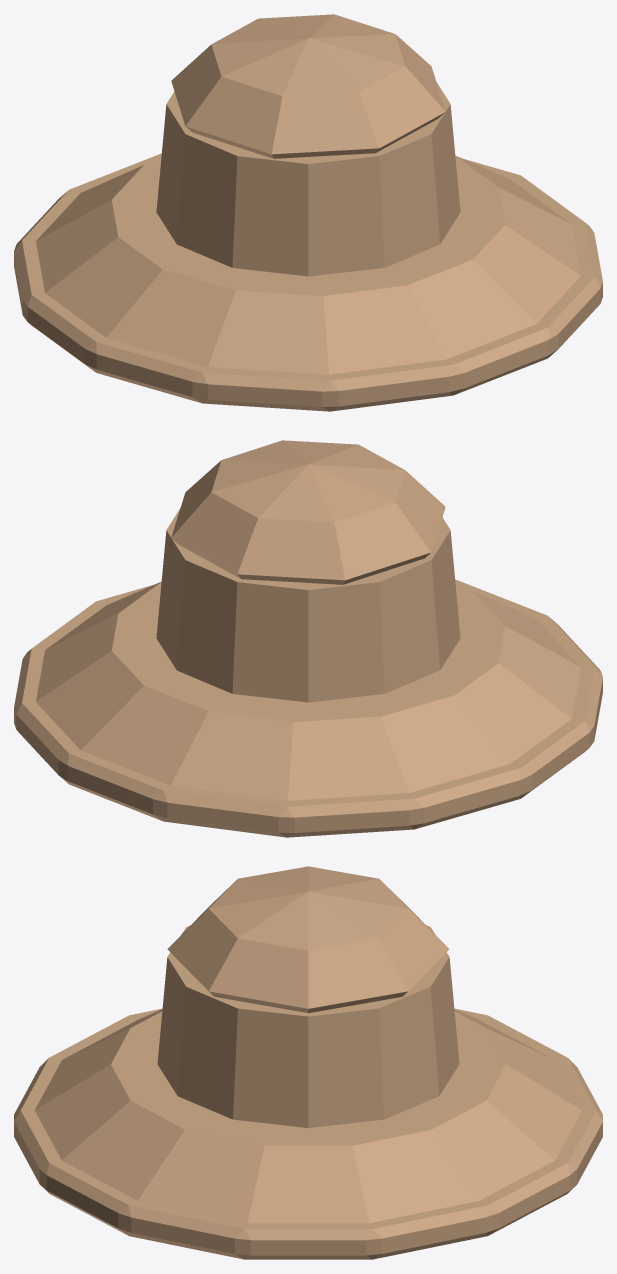
Rendered from CF_HatCowboy.fbx.
3 views of the same model, one above another, from view 1: azimuth 30°, elevation 25°; view 2: azimuth 150°, elevation 25°; view 3: azimuth 270°, elevation 25° (orthographic).
Visible parts, largest first — view 1: CF_HatCowboy_Felt; view 2: CF_HatCowboy_Felt; view 3: CF_HatCowboy_Felt.
Part boxes in pixels (x1,y1,x2,y2): CF_HatCowboy_Felt: (14, 14, 602, 411); CF_HatCowboy_Felt: (14, 440, 602, 837); CF_HatCowboy_Felt: (14, 866, 602, 1259).
Size of the model in its own units: 2.05 by 0.975 by 2.09.
